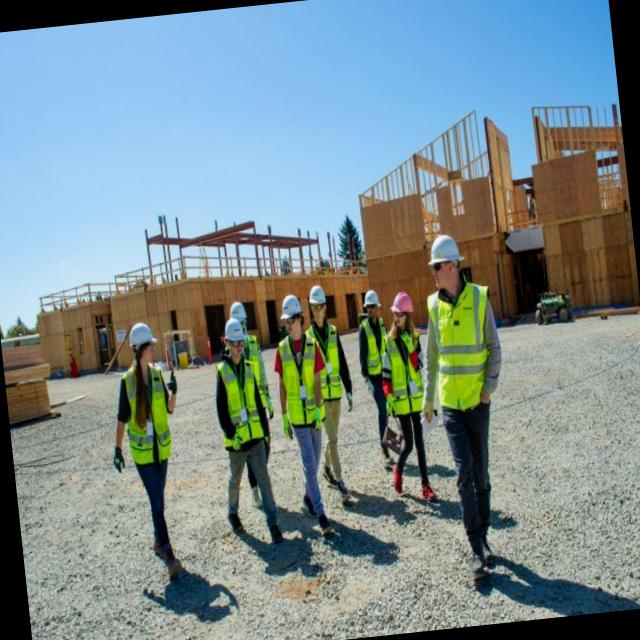helmet: (424, 229, 468, 277), (120, 322, 160, 356), (218, 312, 249, 354), (274, 292, 306, 324), (388, 289, 420, 320), (306, 278, 329, 309), (362, 287, 383, 312)
vest: (418, 282, 509, 432), (113, 358, 181, 477), (277, 326, 328, 440), (216, 354, 264, 454), (380, 329, 430, 421), (308, 320, 346, 406), (354, 314, 391, 380)
